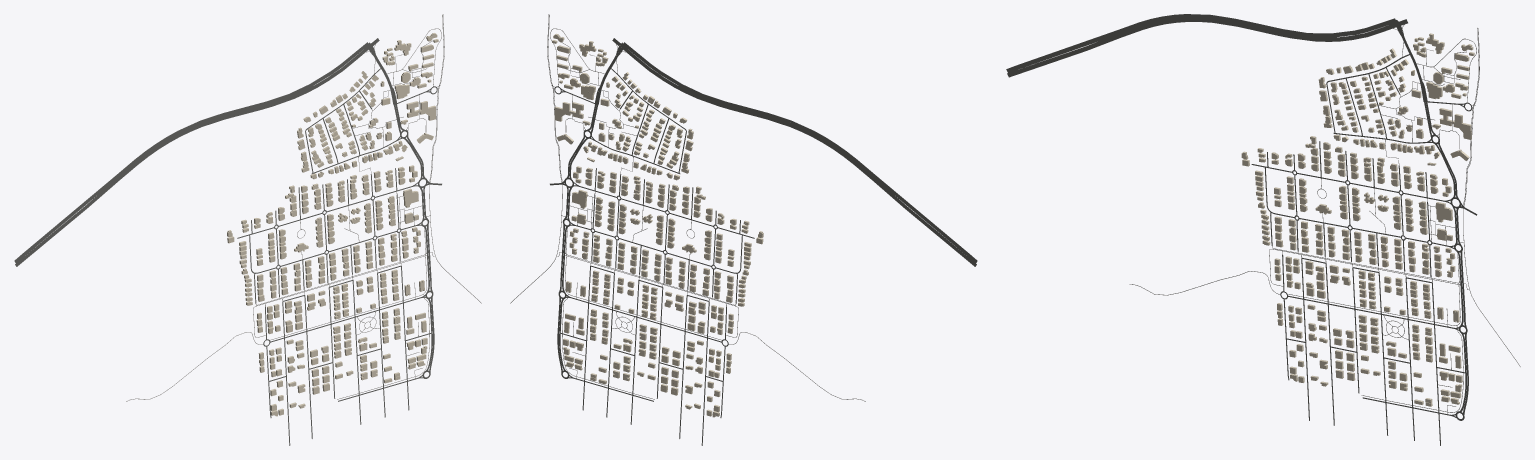
File: historic-palestine-05_22_3470_3169.glb
3 renders of one model, left to right at view 1: azimuth 30°, elevation 25°; view 2: azimuth 150°, elevation 25°; view 3: azimuth 330°, elevation 25°, orthographic. The views are drawn at different scales.
Parts seen in each view (by area): view 1: Road 3, Road 3.002; view 2: Road 3, Road 3.002; view 3: Road 3, Road 3.002.
Part boxes in pixels (x1,y1,x2,y2): Road 3: (15, 46, 368, 266); Road 3.002: (14, 42, 368, 262); Road 3: (622, 46, 976, 266); Road 3.002: (623, 42, 977, 263); Road 3: (1007, 17, 1397, 77); Road 3.002: (1006, 14, 1395, 72).
Size of the model in its own units: 1552 by 1251 by 8.7.
